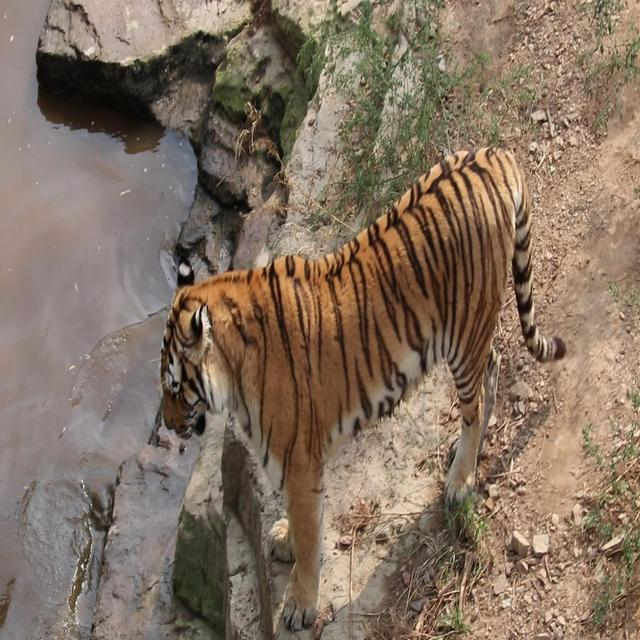tiger: (157, 144, 566, 633)
